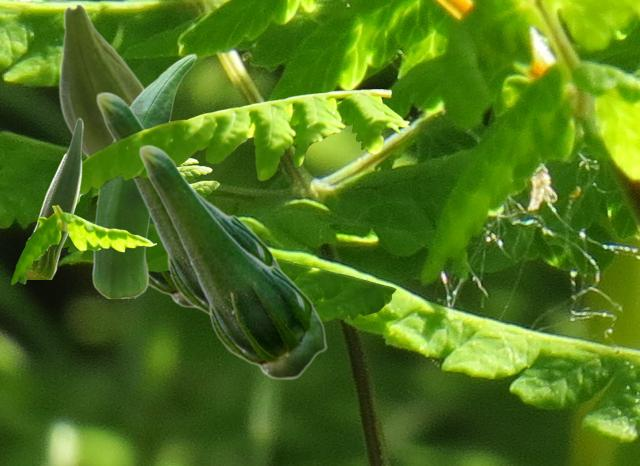okra: (138, 144, 326, 379), (95, 91, 284, 315), (91, 53, 196, 297), (58, 3, 144, 156), (27, 117, 82, 278), (149, 221, 192, 307)
